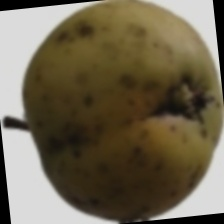apple: (16, 47, 210, 202)
